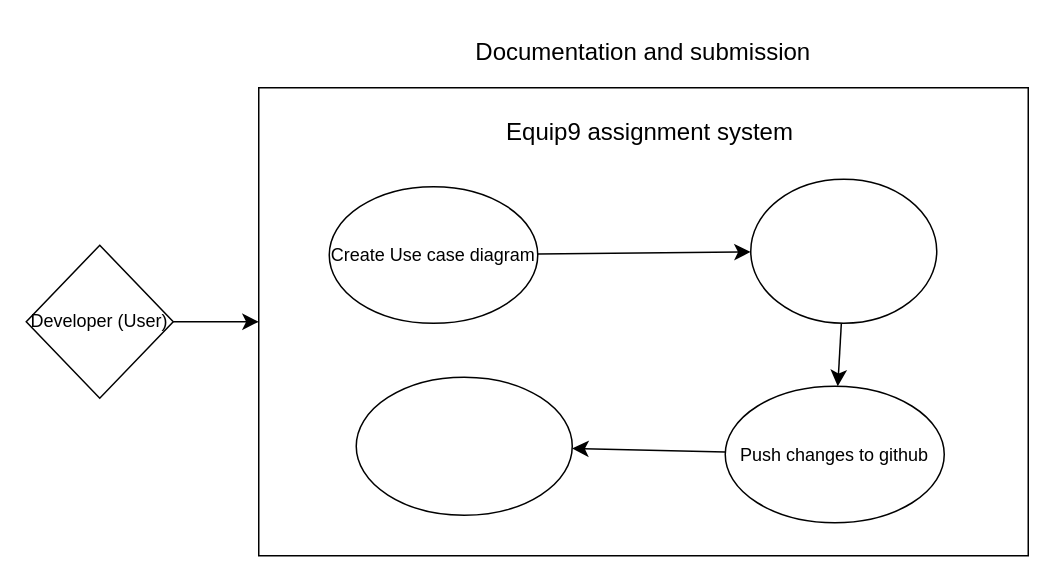
Some shapes in this 1055 by 582 pixel diagram are drawn without their labels. The centre of each missing label's shape, as x and y in pixels:
"Finalise documentation" goes at (843,250).
"Submit repository link" goes at (463,445).
